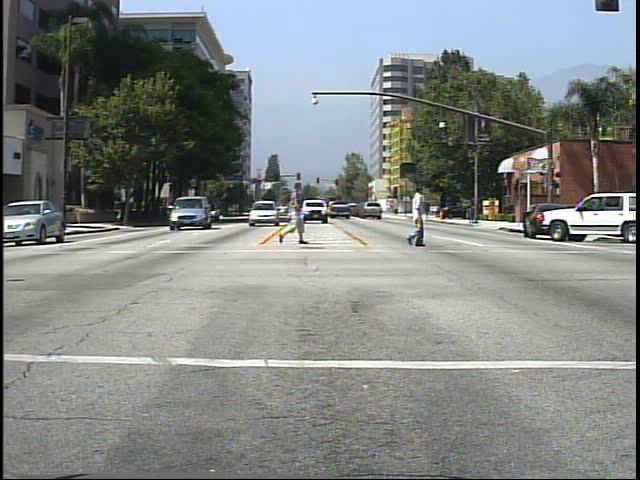person: (276, 175, 314, 249), (398, 176, 434, 254)
